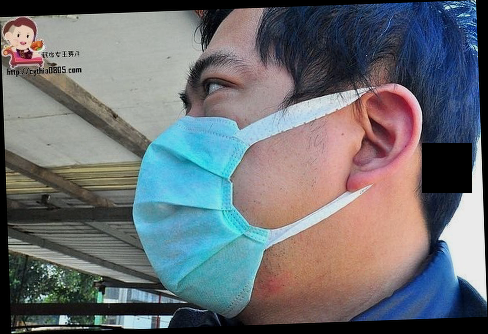with_mask: (128, 49, 342, 320)
